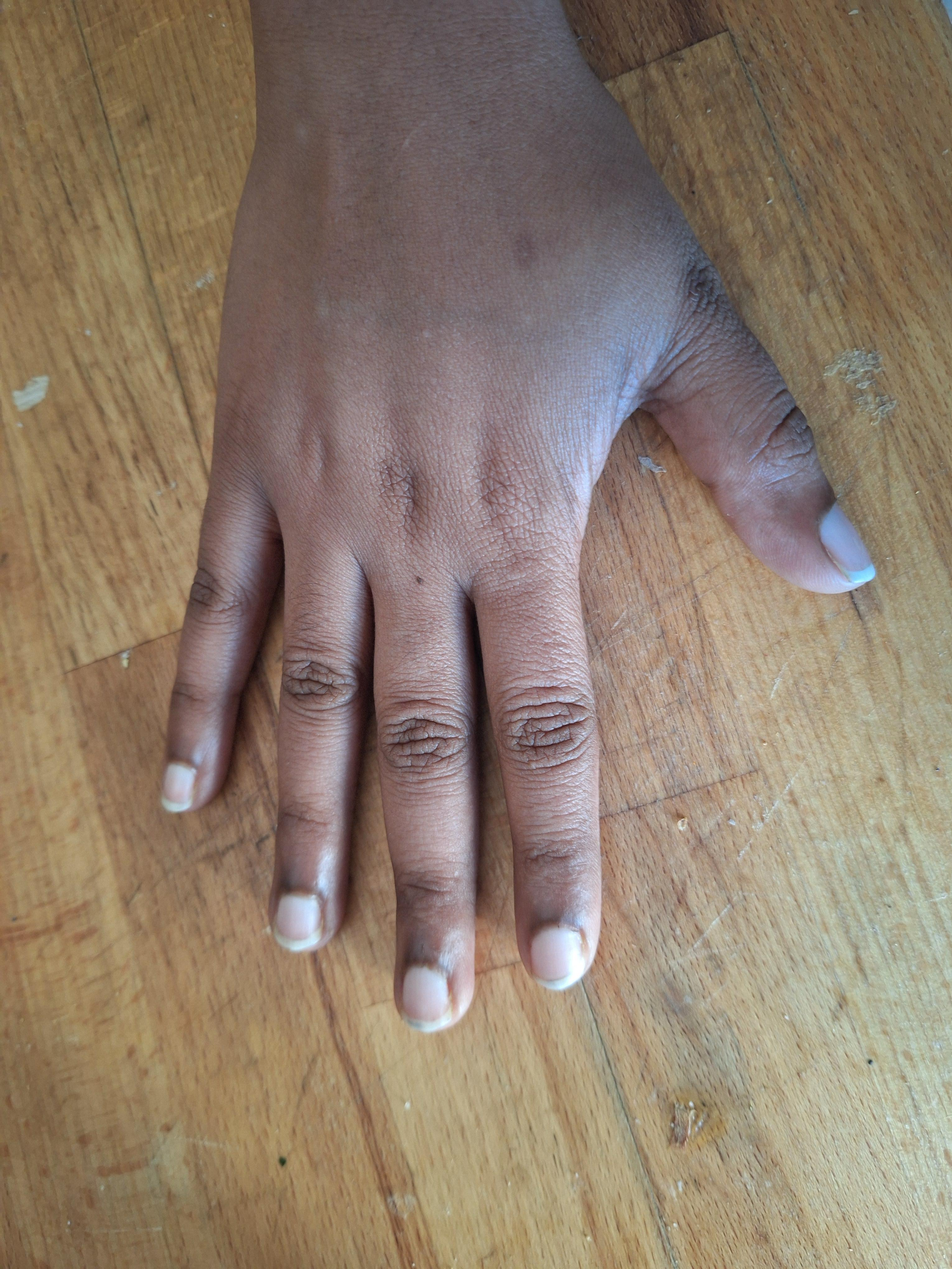Fingernail: (820, 501, 875, 584), (531, 928, 586, 990), (400, 967, 451, 1030), (276, 893, 324, 950), (162, 761, 196, 814)
